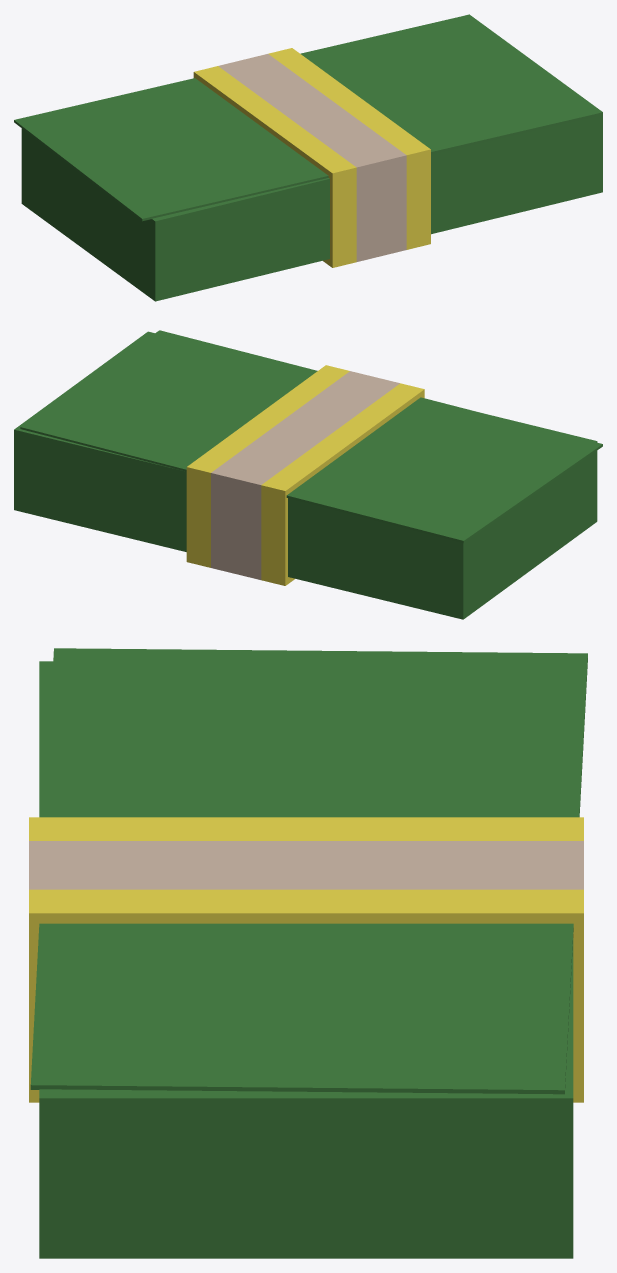
Rendered from Liasse.fbx.
3 views of the same model, one above another, from view 1: azimuth 30°, elevation 25°; view 2: azimuth 150°, elevation 25°; view 3: azimuth 270°, elevation 25° (orthographic). The views are drawn at different scales.
Parts seen in each view (by area): view 1: LiasseBillet; view 2: LiasseBillet; view 3: LiasseBillet.
Part boxes in pixels (x1,y1,x2,y2): LiasseBillet: [14, 14, 602, 301]; LiasseBillet: [14, 330, 602, 619]; LiasseBillet: [29, 648, 587, 1258].
Size of the model in its own units: 12.25 by 2.43 by 6.49.
